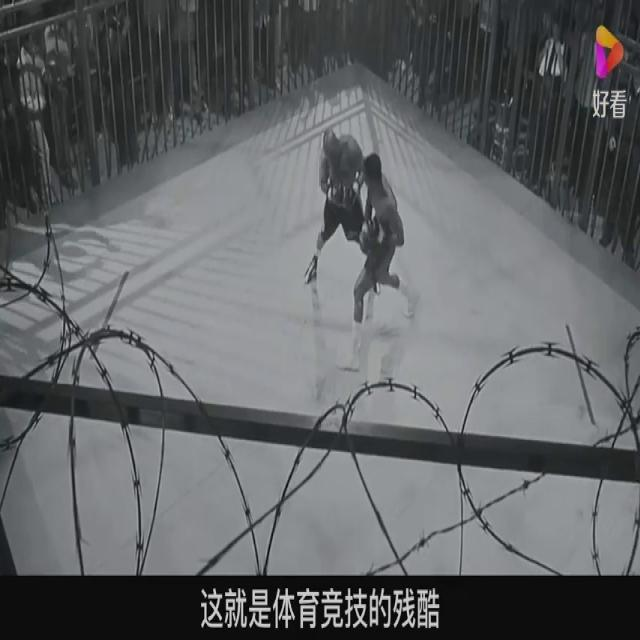fight: (301, 123, 421, 374)
